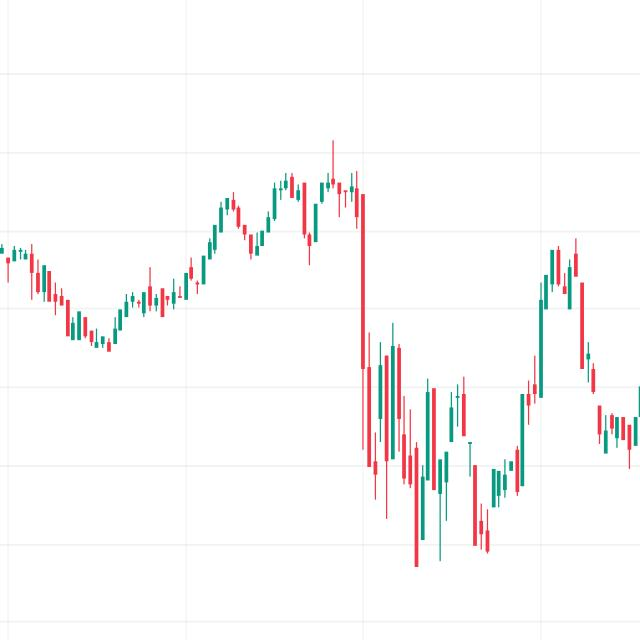Triple-Top: (207, 145, 382, 297)
